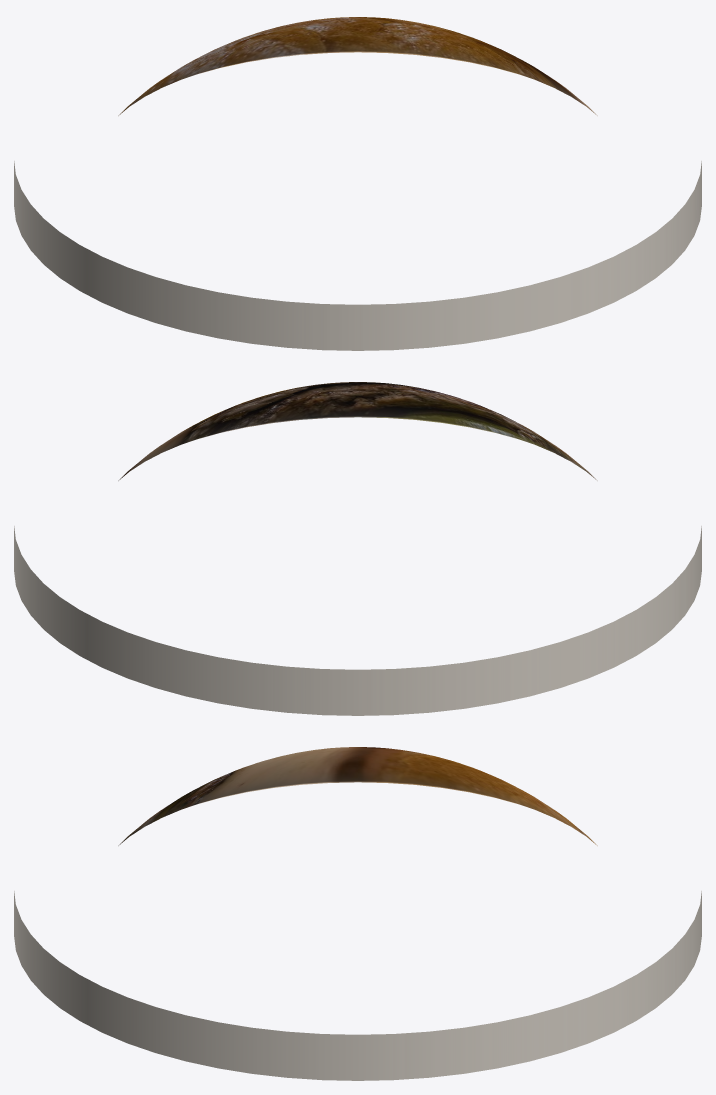
Rendered from fastfood.glb.
The picture shows the model from 3 angles, top to bottom: view 1: azimuth 30°, elevation 25°; view 2: azimuth 150°, elevation 25°; view 3: azimuth 270°, elevation 25°; orthographic projection.
Parts seen in each view (by area): view 1: fastfood; view 2: fastfood; view 3: fastfood.
Boxes of the visible parts, <box> form: fastfood: <box>14,17,701,350</box>; fastfood: <box>14,382,701,715</box>; fastfood: <box>14,747,701,1080</box>.
Size of the model in its own units: 0.27 by 0.069 by 0.27.
Materials: 1 (1 with a texture image).
